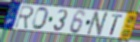3: (52, 9, 69, 32)
6: (69, 8, 87, 35)
N: (85, 11, 111, 37)
O: (31, 7, 50, 31)
R: (13, 5, 35, 31)
T: (109, 13, 125, 37)
